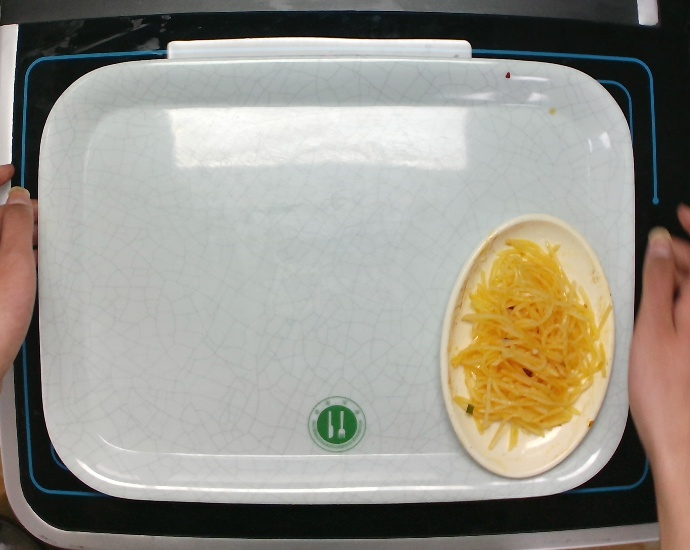JYsf-Tuo_Yuan_Wan: (437, 214, 618, 481)
